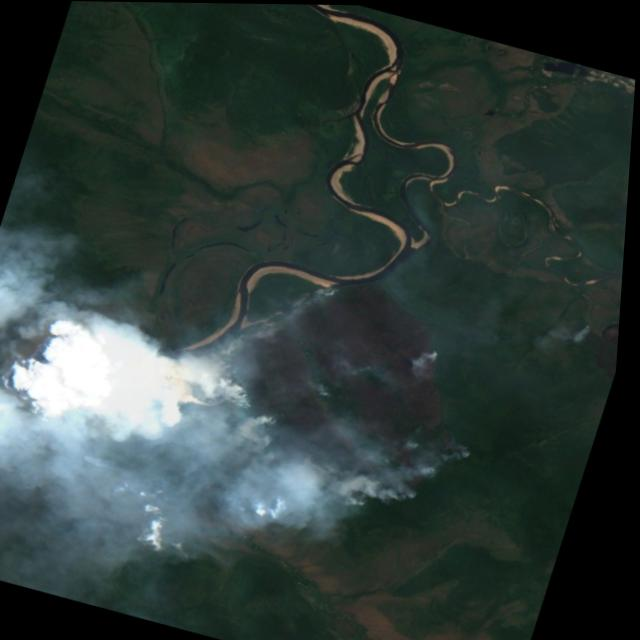fire: (160, 239, 525, 533)
